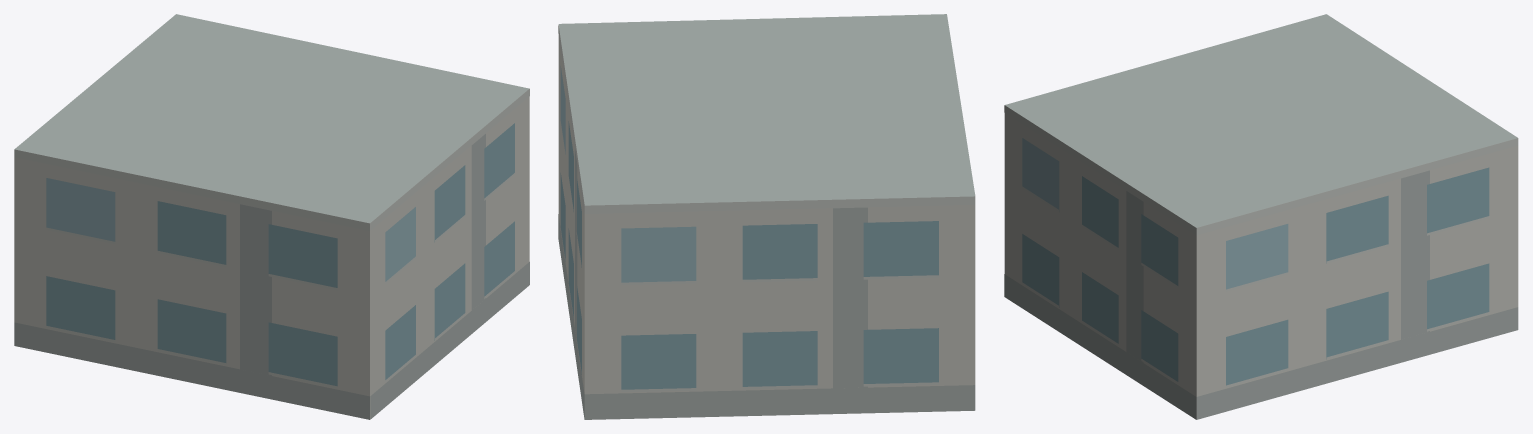
Rendered from survey-upis-32699282.glb.
3 renders of one model, left to right at view 1: azimuth 30°, elevation 25°; view 2: azimuth 150°, elevation 25°; view 3: azimuth 270°, elevation 25°, orthographic. The views are drawn at different scales.
Visible parts, largest first — view 1: survey-upis-32699282.tmp; view 2: survey-upis-32699282.tmp; view 3: survey-upis-32699282.tmp.
Boxes of the visible parts, x1,y1,x2,y2 form: survey-upis-32699282.tmp: [14, 14, 529, 419]; survey-upis-32699282.tmp: [558, 14, 975, 419]; survey-upis-32699282.tmp: [1004, 14, 1518, 419].
Bounding box in the file's own units: 14.59 × 6.1 × 14.81.
